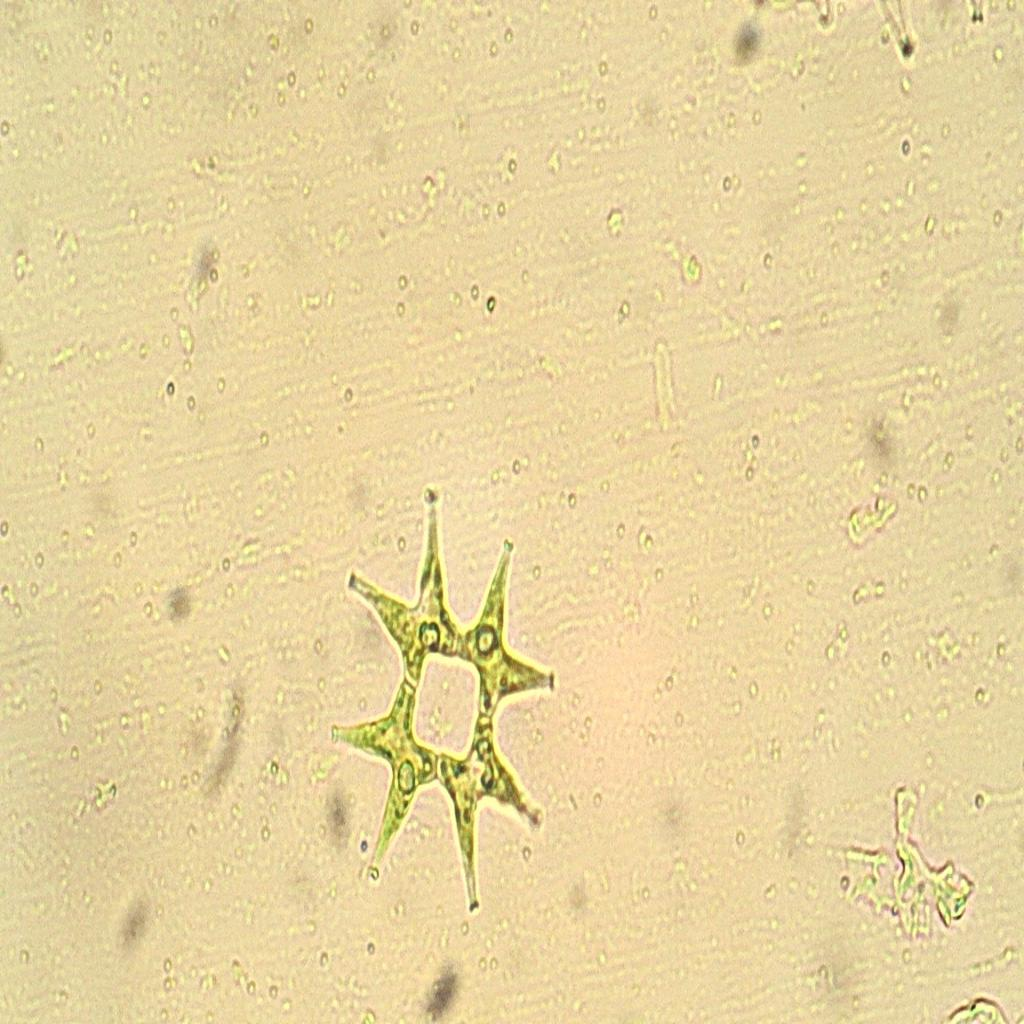Pediastrum_10: (317, 477, 581, 935)
